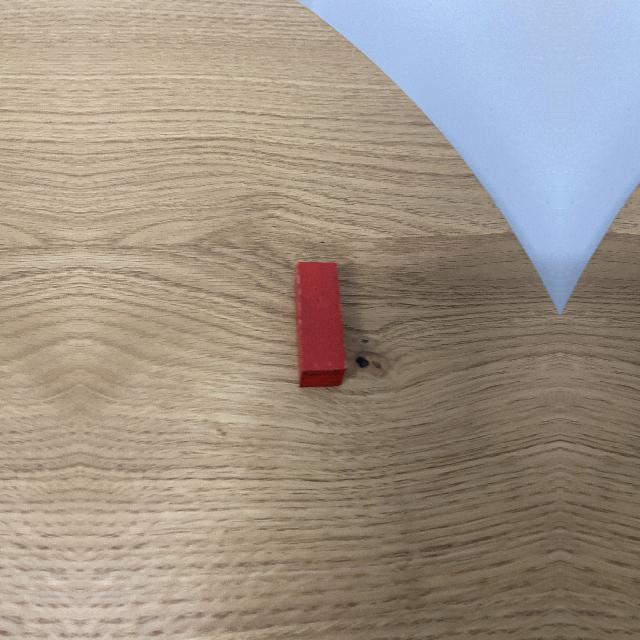red block: (294, 264, 342, 384)
